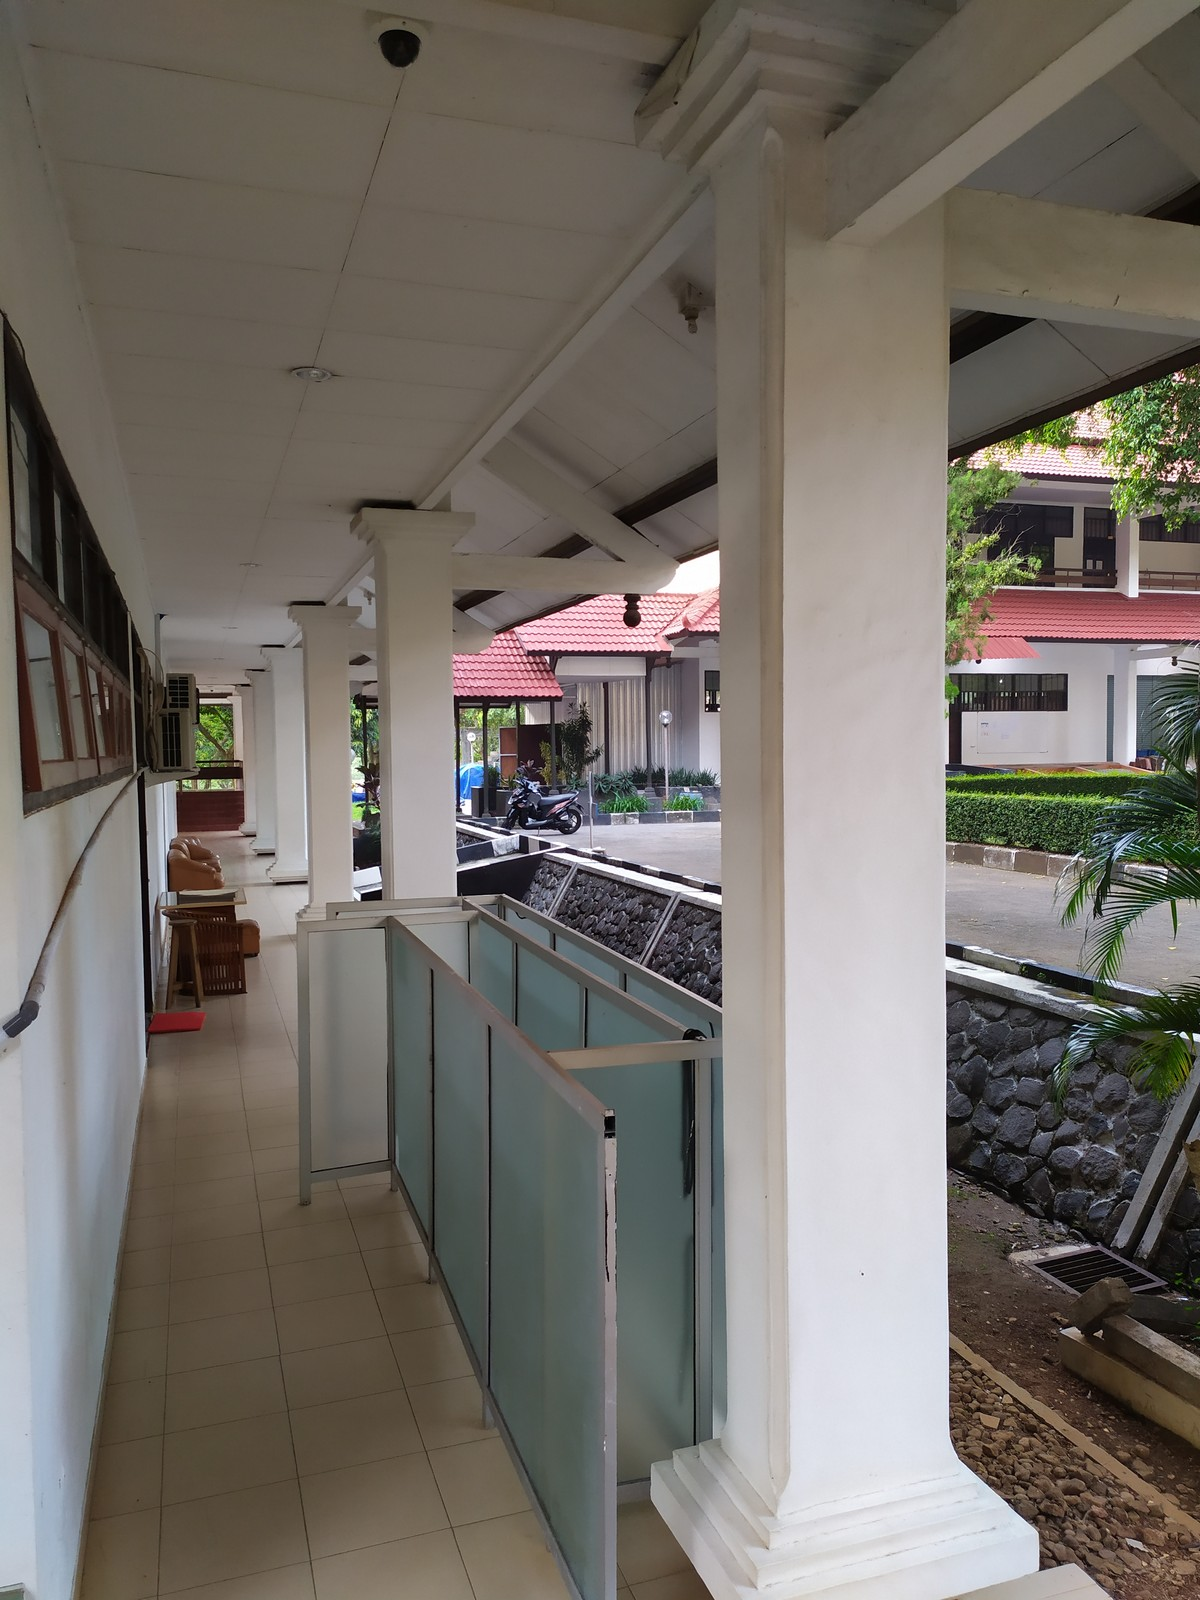concrete beam: (897, 189, 1200, 341), (439, 546, 629, 603)
concrete column: (692, 184, 976, 1489), (368, 544, 479, 901), (296, 624, 361, 900)
